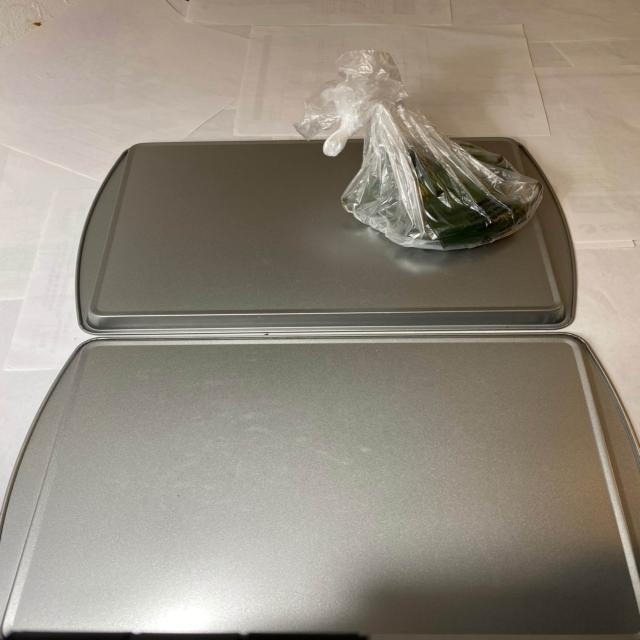chilli: (342, 149, 545, 247)
